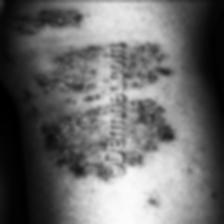Non-Cancerous Skin Condition: (7, 42, 99, 197), (122, 26, 178, 170), (15, 0, 85, 40)
